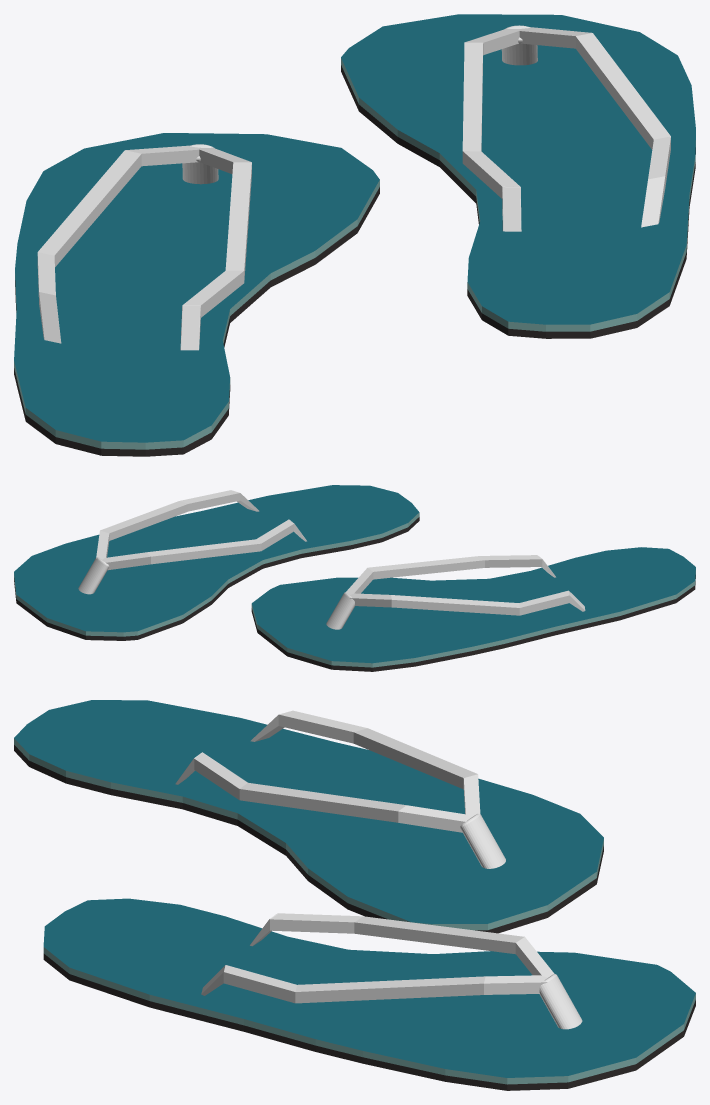
File: Sandaleas.fbx
3 renders of one model, top to bottom at view 1: azimuth 30°, elevation 25°; view 2: azimuth 150°, elevation 25°; view 3: azimuth 270°, elevation 25°, orthographic. The views are drawn at different scales.
Parts seen in each view (by area): view 1: Circle.003, Circle.005; view 2: Circle.003, Circle.005; view 3: Circle.005, Circle.003.
Boxes of the visible parts, x1,y1,x2,y2 form: Circle.003: (14,133,379,456); Circle.005: (341,14,695,338); Circle.003: (251,547,695,671); Circle.005: (14,485,419,640); Circle.005: (43,898,695,1090); Circle.003: (14,700,603,933).
Size of the model in its own units: 182 by 14.89 by 139.
